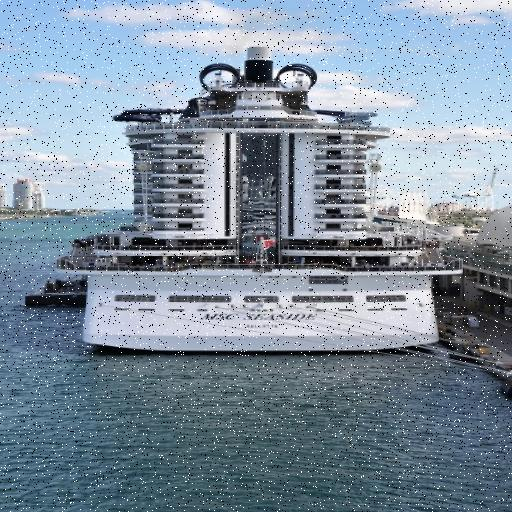cruises: (57, 44, 465, 360)
